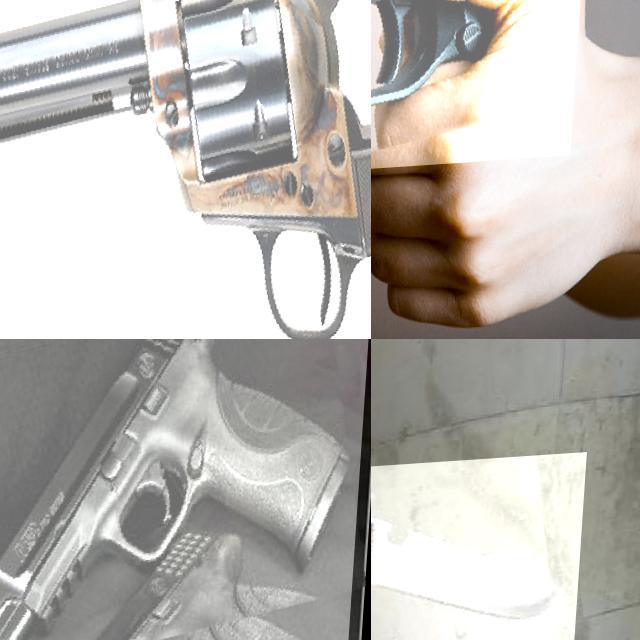-: (371, 459, 589, 640)
gun-knife-thesis - v11 Yolov5 augmented: (0, 0, 371, 339), (0, 339, 371, 640), (371, 0, 597, 208), (0, 532, 361, 640)
